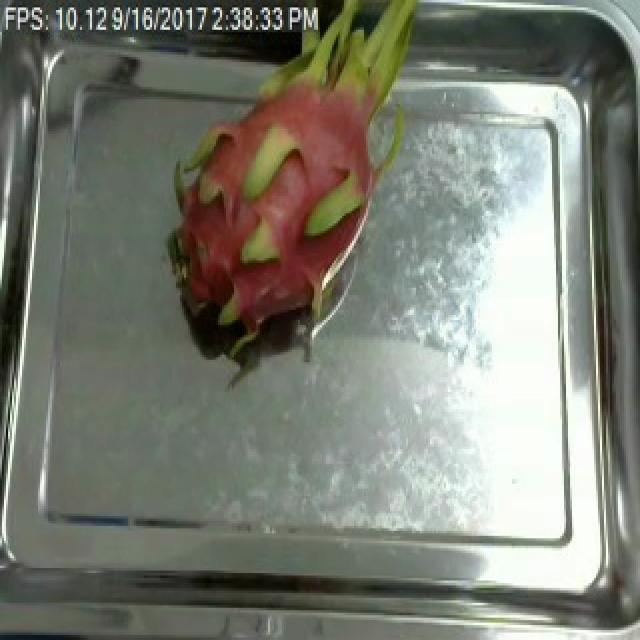fruit: (128, 2, 442, 392)
